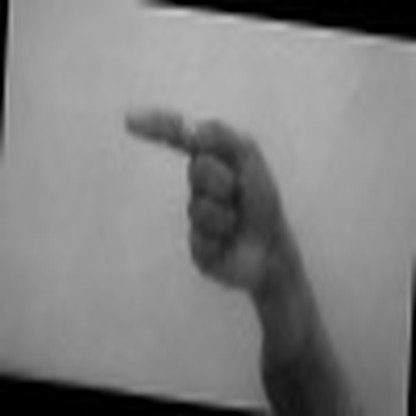g: (118, 102, 300, 284)
